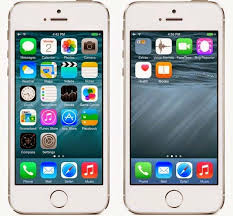iphone: (123, 1, 233, 216), (4, 1, 113, 216)
iphone5: (123, 1, 233, 216), (5, 1, 114, 216)
